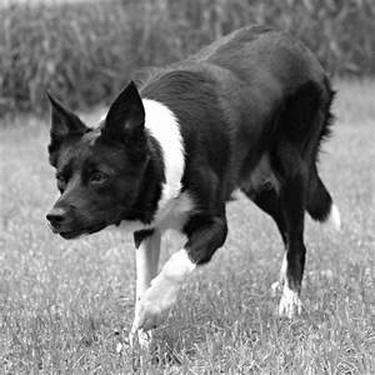dog: (30, 10, 347, 363)
